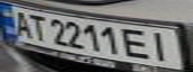1: (81, 21, 103, 52), (100, 24, 121, 55)
2: (45, 16, 66, 47), (63, 19, 84, 49)
A: (6, 8, 36, 39)
E: (121, 26, 154, 60)
I: (145, 29, 178, 62)
T: (24, 12, 51, 42)
